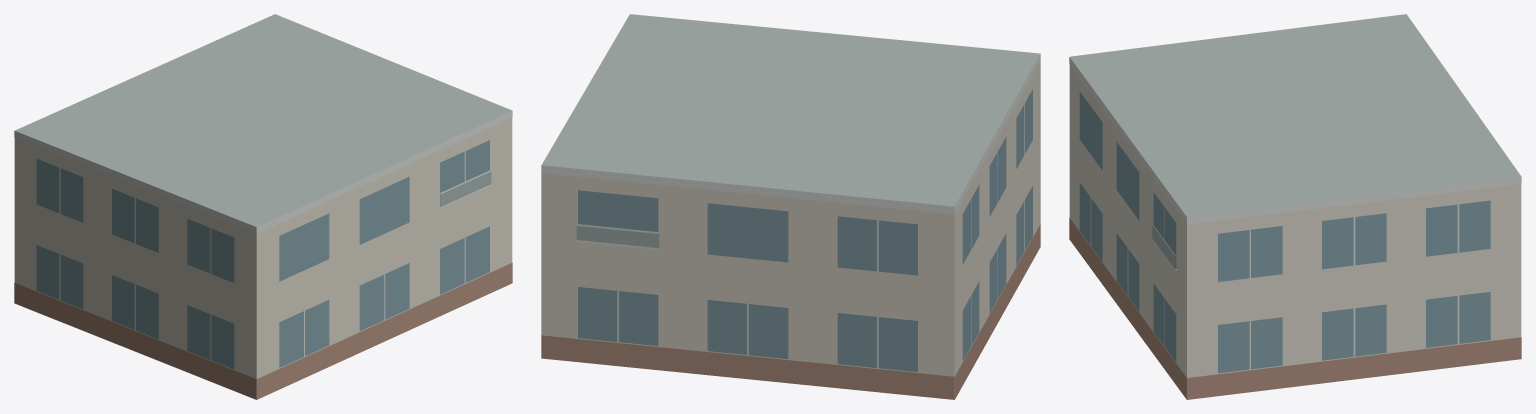
Rendered from survey-upis-32925231.glb.
3 renders of one model, left to right at view 1: azimuth 30°, elevation 25°; view 2: azimuth 150°, elevation 25°; view 3: azimuth 270°, elevation 25°, orthographic. The views are drawn at different scales.
Visible parts, largest first — view 1: survey-upis-32925231.tmp; view 2: survey-upis-32925231.tmp; view 3: survey-upis-32925231.tmp.
Part boxes in pixels (x1,y1,x2,y2): survey-upis-32925231.tmp: (14, 14, 512, 399); survey-upis-32925231.tmp: (541, 14, 1040, 399); survey-upis-32925231.tmp: (1069, 14, 1521, 399).
Size of the model in its own units: 14.58 by 6.1 by 13.7.
